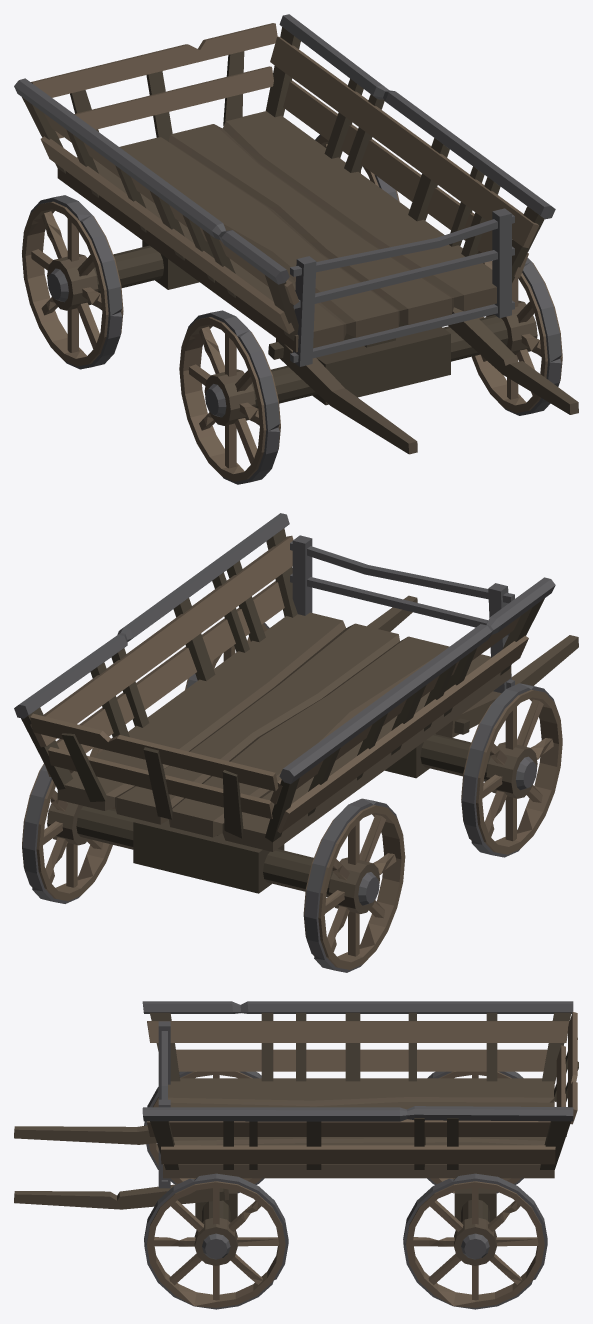
The model's file is SM_Prop_Cart_01.glb.
The picture shows the model from 3 angles, top to bottom: view 1: azimuth 30°, elevation 25°; view 2: azimuth 150°, elevation 25°; view 3: azimuth 270°, elevation 25°; orthographic projection. The views are drawn at different scales.
Visible parts, largest first — view 1: SM_Prop_Cart_01; view 2: SM_Prop_Cart_01; view 3: SM_Prop_Cart_01.
Boxes of the visible parts, box(x1,y1,x2,y2) form: SM_Prop_Cart_01: box(14, 14, 578, 484); SM_Prop_Cart_01: box(14, 513, 578, 972); SM_Prop_Cart_01: box(14, 1001, 578, 1309).
Bounding box in the file's own units: 0.0213 × 0.0151 × 0.0397.
